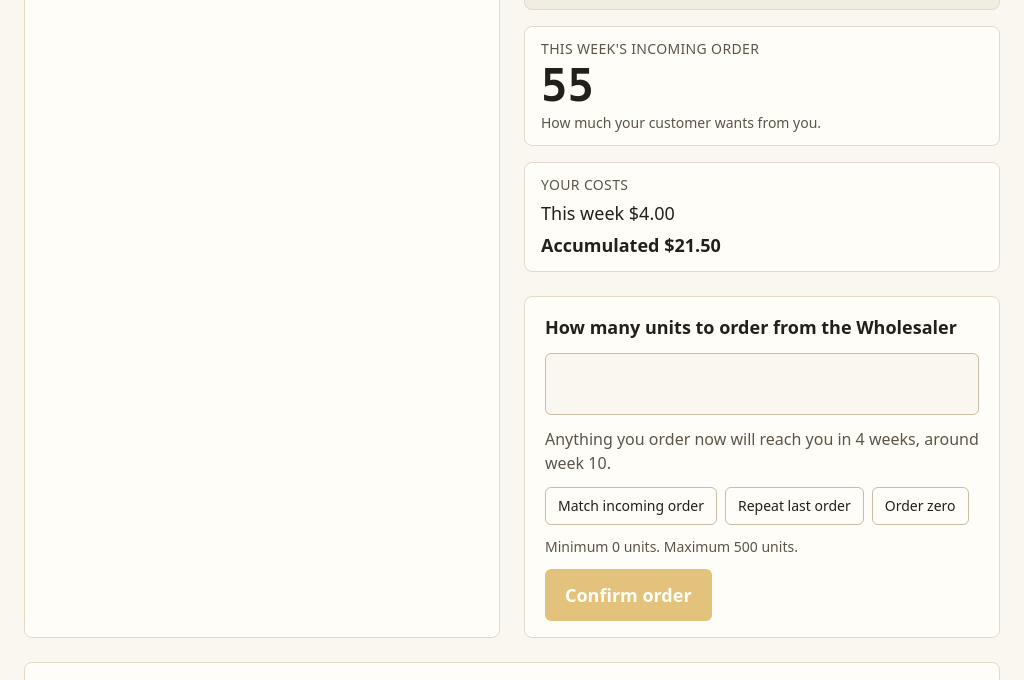
Test: CRITERION 14: after submitting, the locked state replaces the form › offers "Change my order" (§7 Phase B lets a player change until the window closes)
(page scrolled)
Step 1. Type "7" into the number field labelled "How many units to order from the Wholesaler" → (762, 384), box [545,353,979,415]
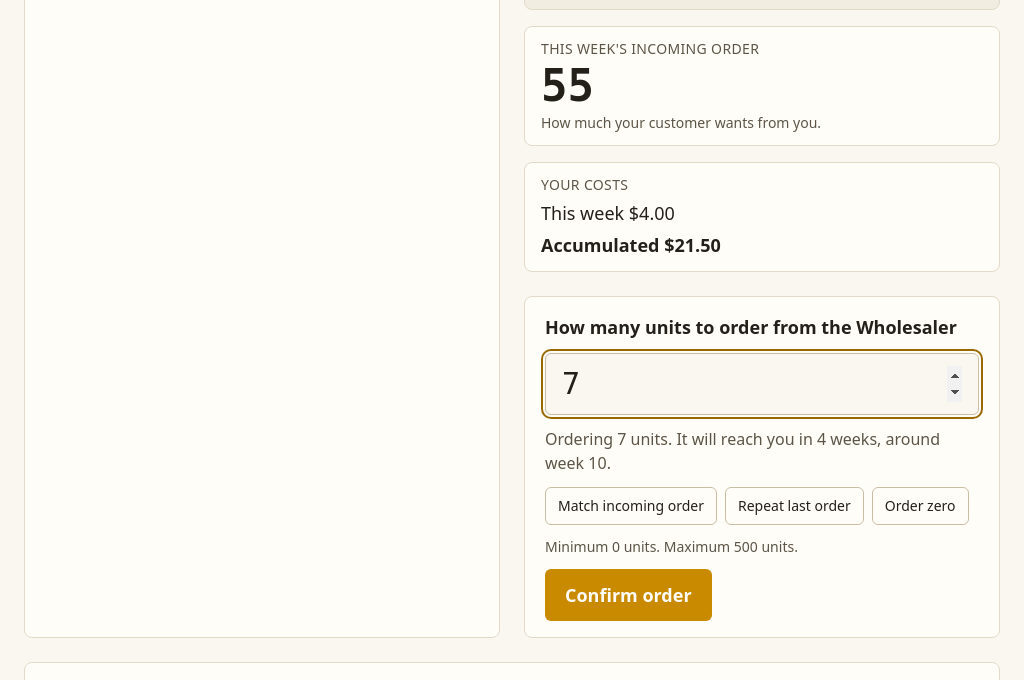
Step 2. Click the button "Confirm order" → (628, 595), box [545,569,712,621]
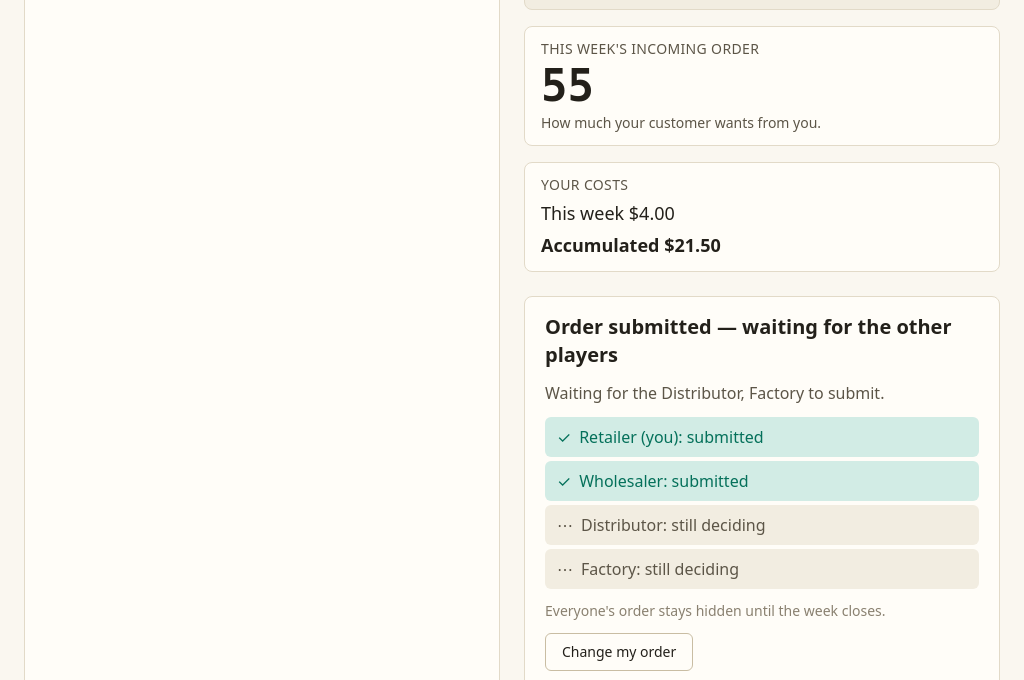
Now the button "Change my order" is shown, box [545,633,693,671]
